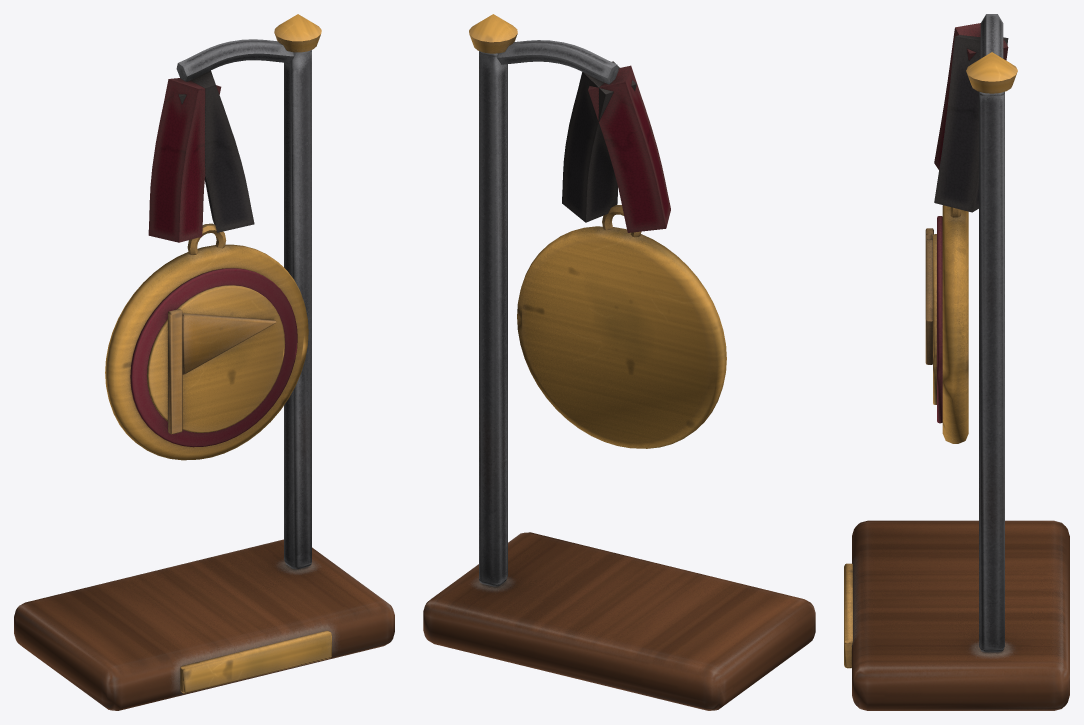
Rendered from PathMedalAthletic.fbx.
The picture shows the model from 3 angles, left to right: view 1: azimuth 30°, elevation 25°; view 2: azimuth 150°, elevation 25°; view 3: azimuth 270°, elevation 25°; orthographic projection. The views are drawn at different scales.
Visible parts, largest first — view 1: PathMedalAthletic; view 2: PathMedalAthletic; view 3: PathMedalAthletic.
Part boxes in pixels (box(x1,y1,x2,y2)): PathMedalAthletic: box(14, 14, 394, 710); PathMedalAthletic: box(423, 14, 815, 710); PathMedalAthletic: box(844, 14, 1069, 710).
Size of the model in its own units: 70 by 137 by 43.5.
